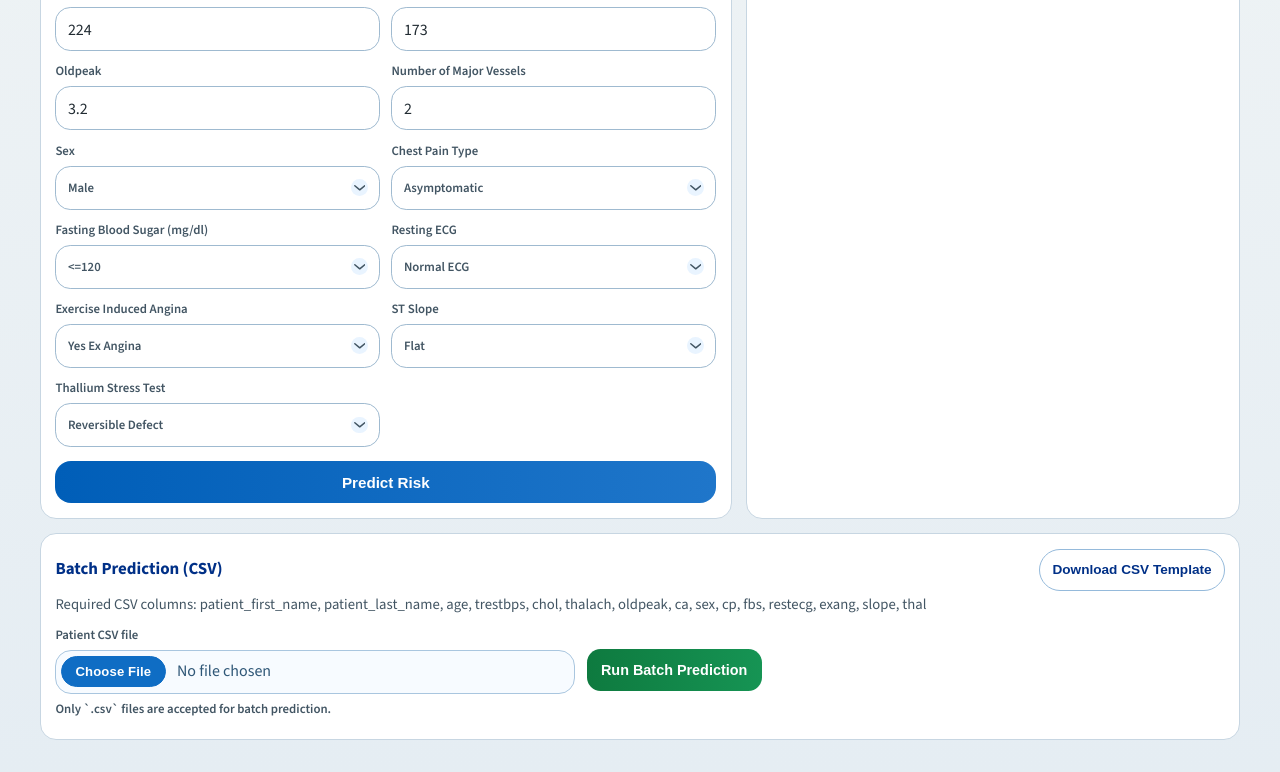
Test case: predict flow renders result card
The image size is (1280, 772).
(page scrolled)
Click the button "Predict Risk".
click(386, 482)  # box left=55, top=462, right=716, bottom=504
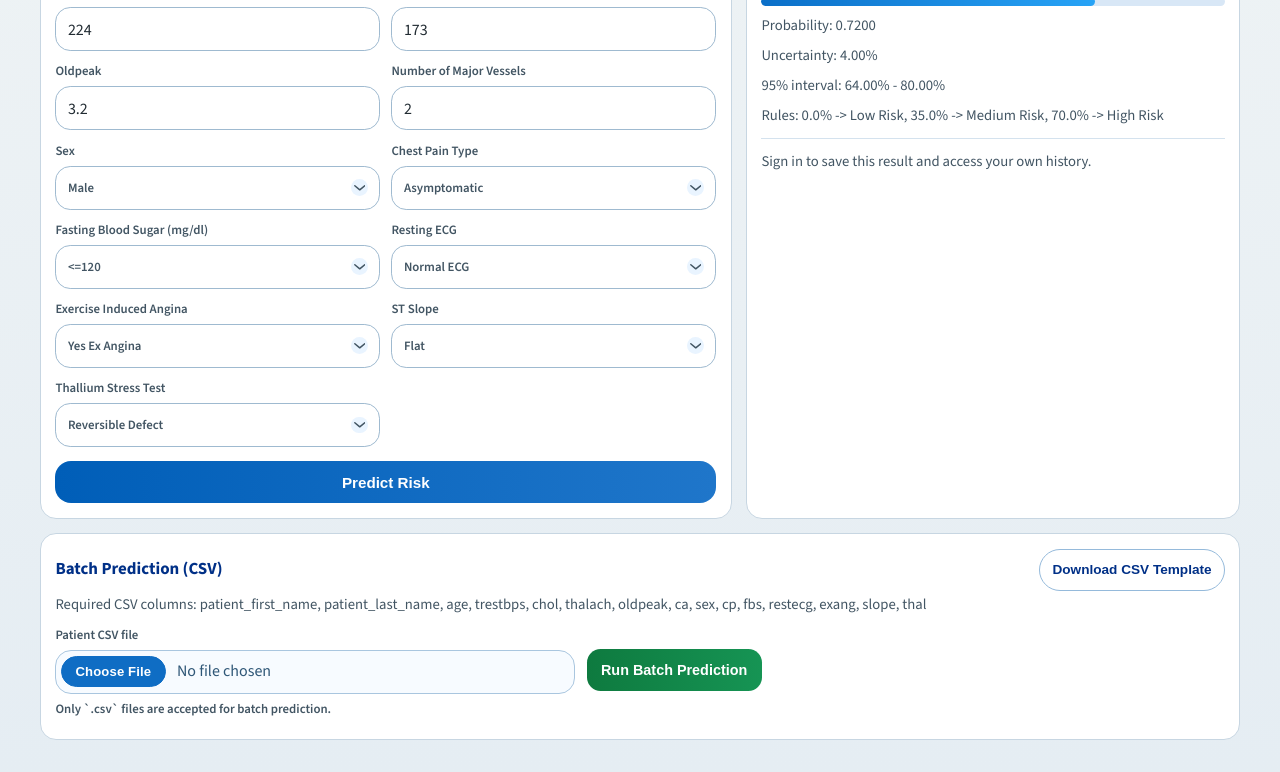
Expected: the text "Probability: 0.7200" is shown, left=761, top=14, right=876, bottom=34
